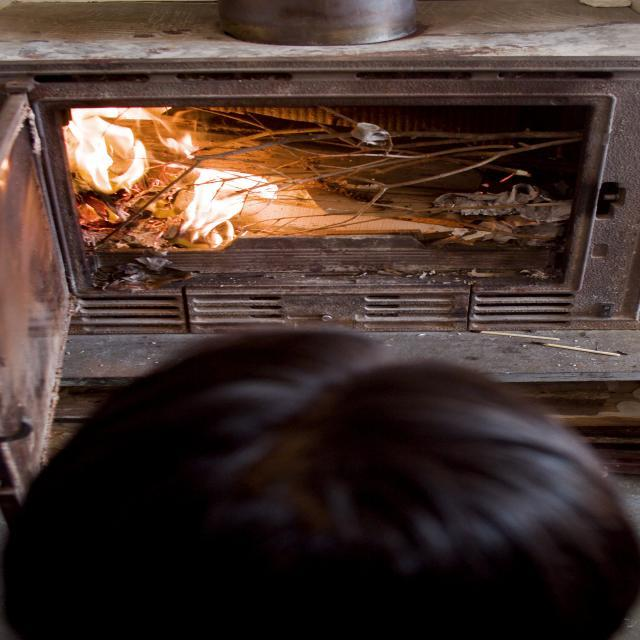Fire: (58, 99, 336, 249)
